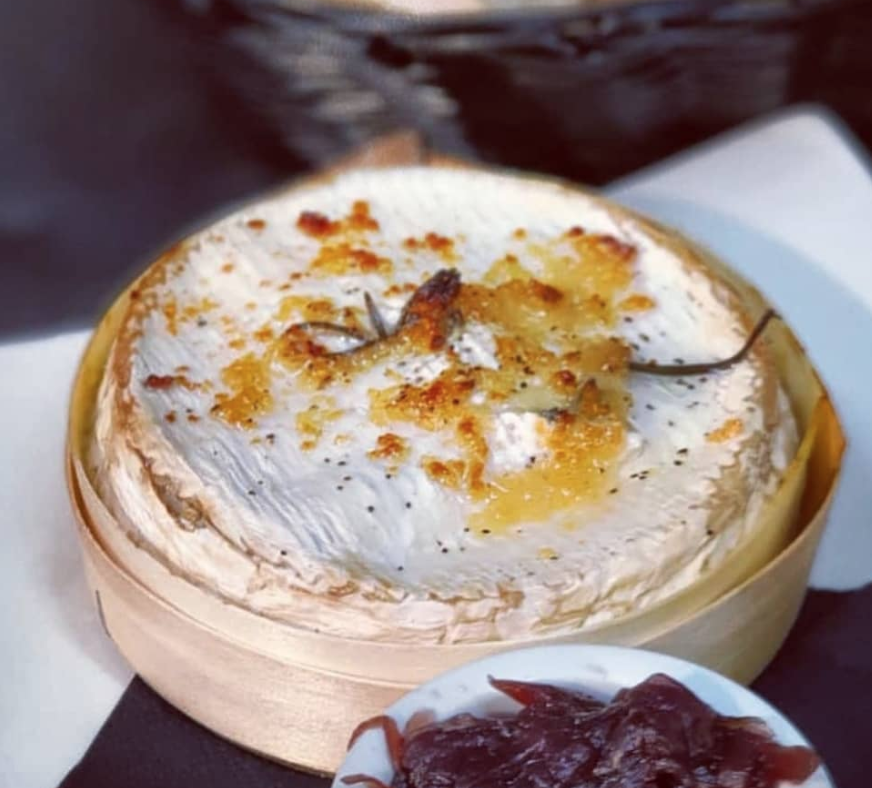camembert: (85, 161, 802, 662)
